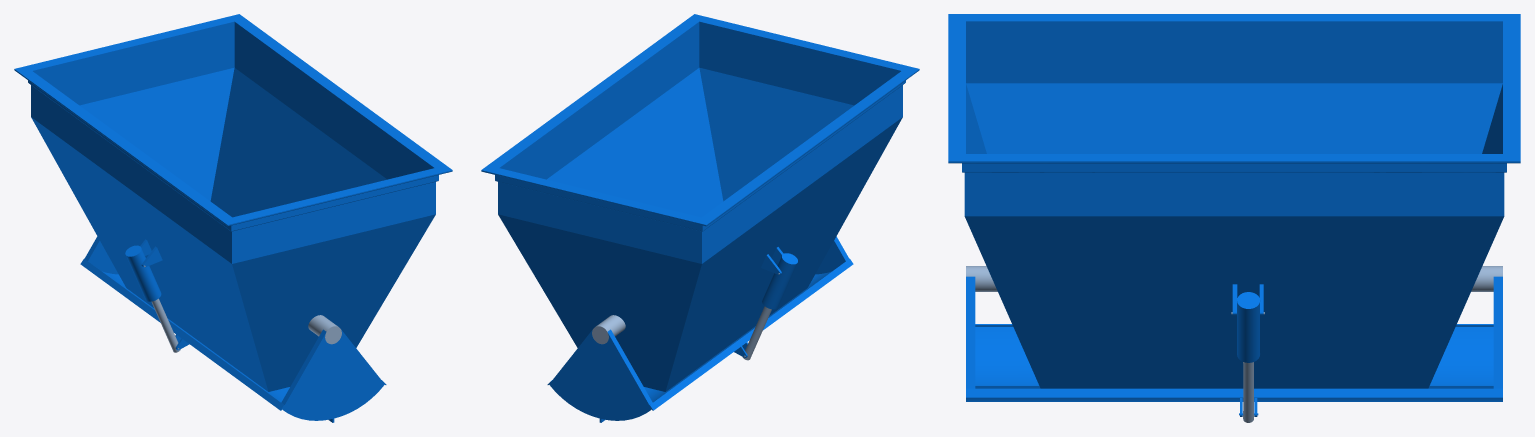
The model's file is hydraulic-mud-hopper.gltf.
3 renders of one model, left to right at view 1: azimuth 30°, elevation 25°; view 2: azimuth 150°, elevation 25°; view 3: azimuth 270°, elevation 25°, orthographic. The views are drawn at different scales.
Visible parts, largest first — view 1: 连接的实心几何图形 [296726], 拉伸 [296660], 放样 [297096], 拉伸 [296744], 拉伸 [296765], 拉伸 [296749], 拉伸 [296801], 拉伸 [296780], 拉伸 [296740], 拉伸 [296806]; view 2: 连接的实心几何图形 [296726], 拉伸 [296660], 放样 [297096], 拉伸 [296780], 拉伸 [296772], 拉伸 [296749], 拉伸 [296801], 拉伸 [296744], 拉伸 [296736], 拉伸 [296806]; view 3: 连接的实心几何图形 [296726], 拉伸 [296660], 放样 [297096], 拉伸 [296811], 拉伸 [296749], 拉伸 [296861], 拉伸 [296772], 拉伸 [296765], 拉伸 [296865], 拉伸 [296736], 拉伸 [296740].
Boxes of the visible parts, x1,y1,x2,y2 form: 连接的实心几何图形 [296726]: [31, 67, 435, 391]; 拉伸 [296660]: [31, 21, 435, 263]; 放样 [297096]: [14, 14, 452, 231]; 拉伸 [296744]: [281, 329, 333, 420]; 拉伸 [296765]: [333, 329, 384, 418]; 拉伸 [296749]: [80, 258, 333, 422]; 拉伸 [296801]: [125, 245, 161, 301]; 拉伸 [296780]: [84, 236, 118, 274]; 拉伸 [296740]: [308, 315, 341, 344]; 拉伸 [296806]: [151, 298, 180, 352]; 连接的实心几何图形 [296726]: [498, 67, 902, 391]; 拉伸 [296660]: [498, 21, 902, 263]; 放样 [297096]: [481, 14, 919, 231]; 拉伸 [296780]: [600, 329, 652, 420]; 拉伸 [296772]: [549, 329, 600, 418]; 拉伸 [296749]: [600, 258, 853, 422]; 拉伸 [296801]: [762, 253, 797, 309]; 拉伸 [296744]: [815, 236, 849, 274]; 拉伸 [296736]: [592, 315, 625, 344]; 拉伸 [296806]: [742, 306, 771, 360]; 连接的实心几何图形 [296726]: [964, 83, 1504, 388]; 拉伸 [296660]: [964, 21, 1504, 216]; 放样 [297096]: [948, 14, 1520, 172]; 拉伸 [296811]: [966, 385, 1502, 401]; 拉伸 [296749]: [975, 324, 1493, 385]; 拉伸 [296861]: [1237, 292, 1260, 362]; 拉伸 [296772]: [1493, 276, 1502, 401]; 拉伸 [296765]: [966, 276, 975, 399]; 拉伸 [296865]: [1243, 362, 1253, 422]; 拉伸 [296736]: [1471, 266, 1502, 291]; 拉伸 [296740]: [966, 266, 997, 291].
Bounding box in the file's own units: 2.56 × 2.5 × 4.2.
